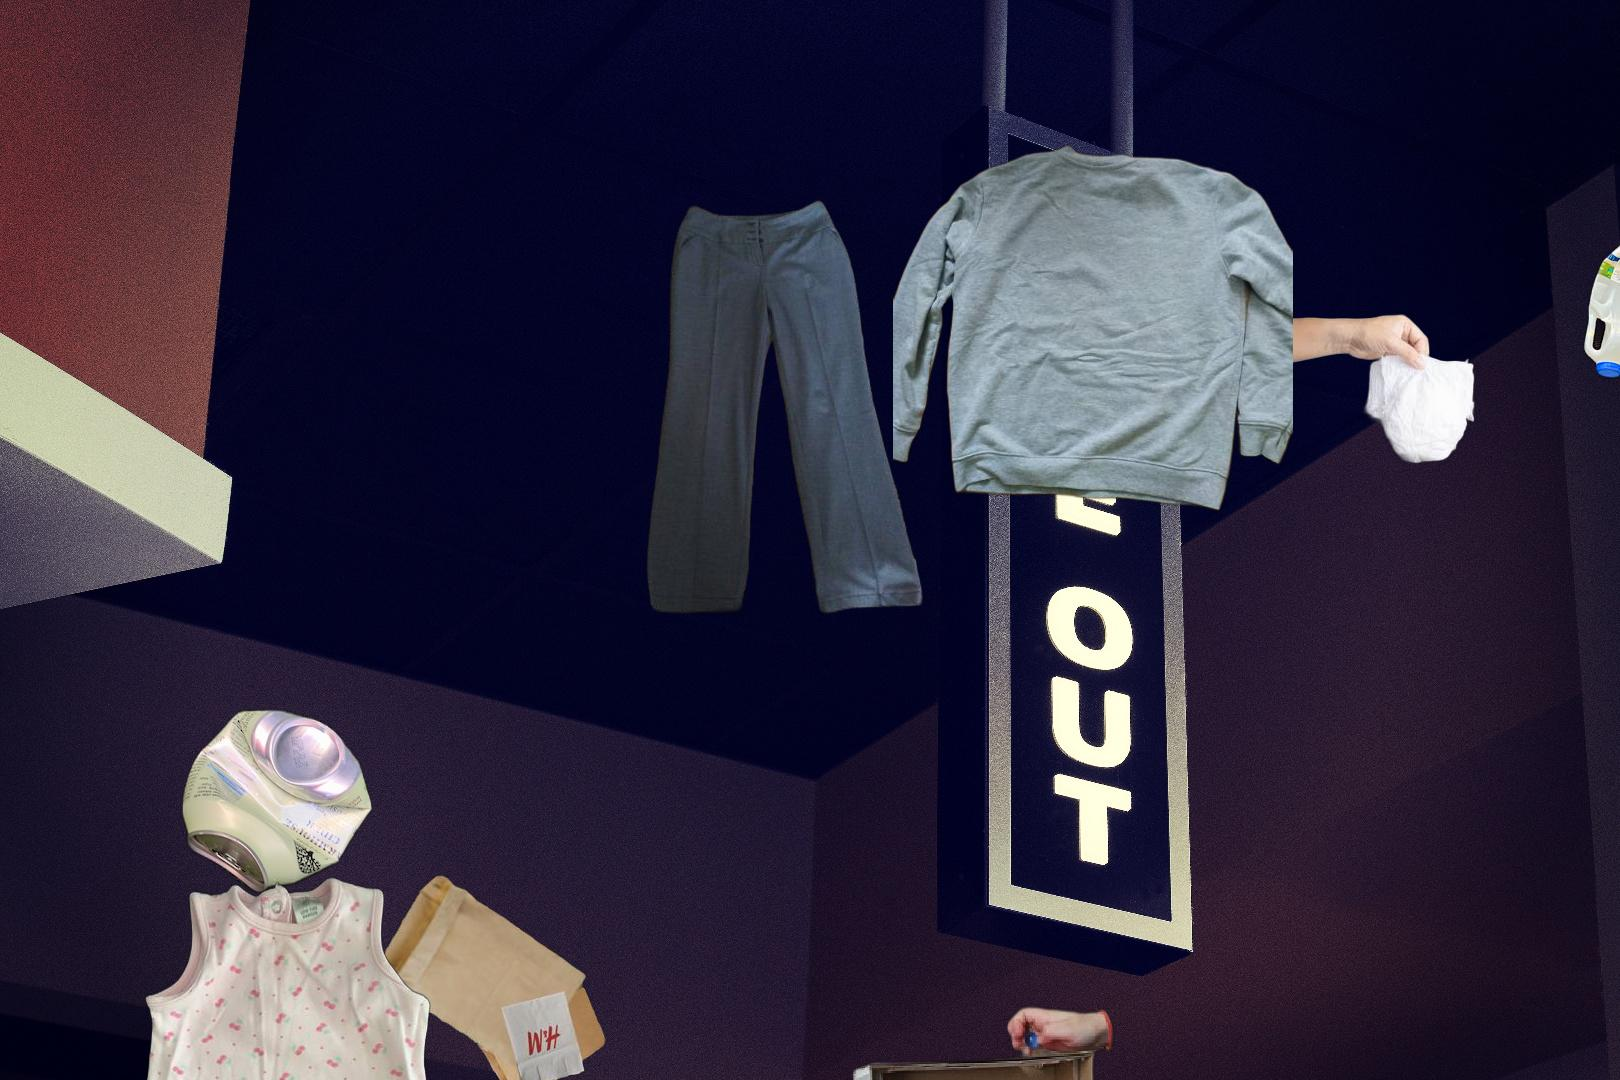clothes: (893, 142, 1293, 515), (643, 195, 929, 619), (130, 873, 461, 1080)
metal-cans: (177, 703, 377, 899)
paper-bag: (374, 874, 608, 1080)
plastic-bottles: (1580, 231, 1620, 384)
trash: (1256, 311, 1478, 466)
trashbox-cardboard: (850, 1002, 1124, 1080)
